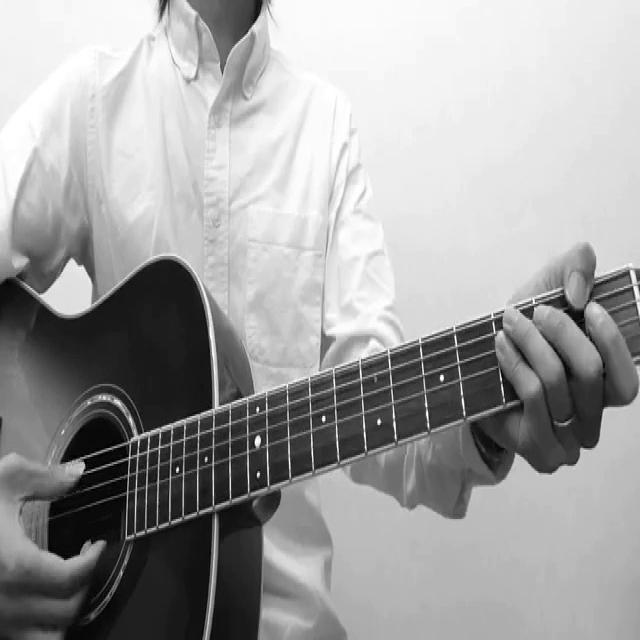Guitar: (2, 237, 640, 632)
